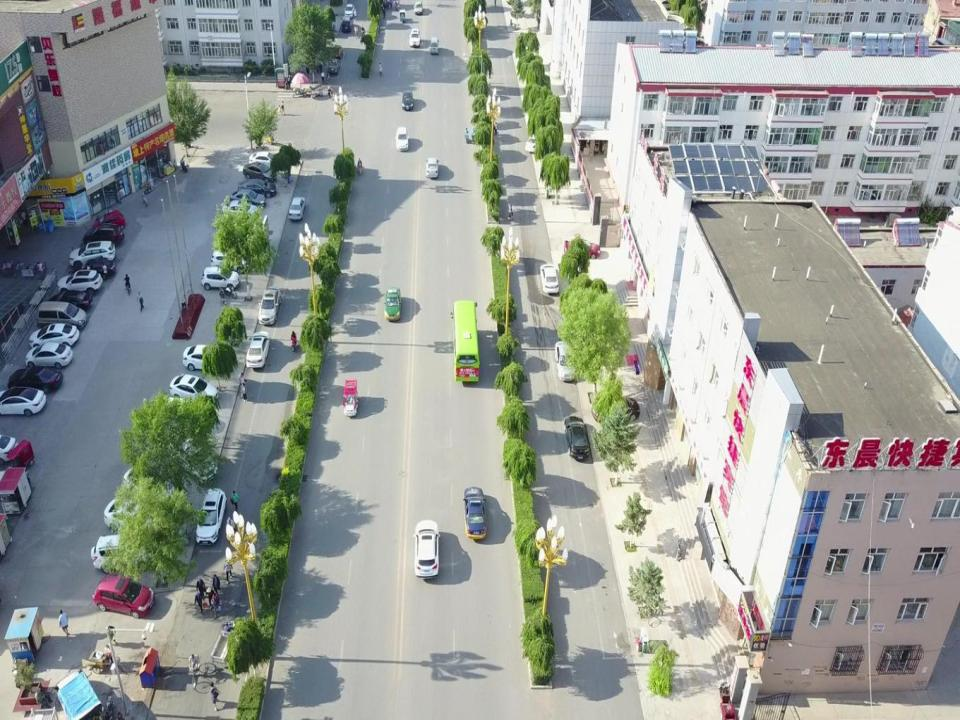bus: (450, 294, 483, 386)
car: (91, 574, 152, 619), (91, 535, 148, 574), (103, 498, 154, 541), (123, 465, 171, 507), (181, 436, 216, 485), (169, 373, 219, 406), (197, 489, 225, 546), (6, 366, 62, 394), (414, 520, 439, 580), (183, 342, 230, 373), (0, 387, 45, 419), (463, 487, 488, 541), (26, 342, 72, 370), (28, 323, 79, 346), (566, 414, 592, 458), (56, 269, 101, 294), (69, 242, 115, 265), (596, 398, 641, 421), (245, 331, 272, 369), (210, 248, 250, 273), (70, 258, 115, 280), (83, 224, 124, 247), (200, 267, 239, 291), (48, 290, 92, 311), (556, 342, 576, 384), (229, 188, 265, 211), (238, 178, 278, 198), (564, 240, 601, 261), (243, 162, 277, 184), (258, 289, 278, 326), (222, 202, 258, 222), (342, 378, 358, 418), (95, 208, 125, 229), (384, 288, 400, 323), (541, 264, 558, 296), (289, 196, 307, 222), (248, 152, 279, 167), (395, 129, 410, 153), (427, 158, 440, 179), (402, 89, 414, 111), (408, 28, 420, 50), (330, 44, 342, 61), (430, 38, 440, 54), (344, 2, 354, 18), (330, 58, 338, 76), (413, 3, 423, 16)
van: (35, 302, 86, 331), (340, 15, 352, 32)
